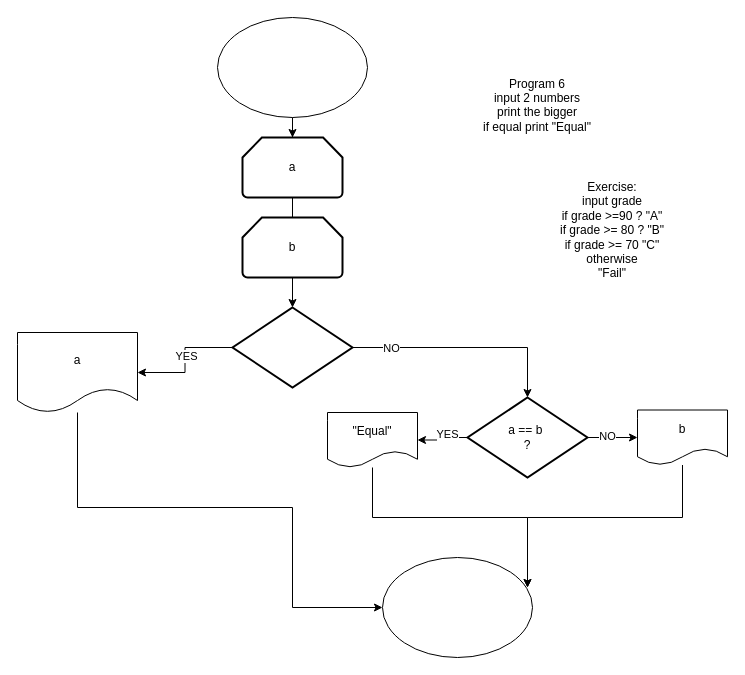
This 745x675 diagram has some shape labels left out. The shapes that lost their labels are listed below. From the top down, each one's box as (x1, y1, x2, y2) in pixels, then its label:
(216, 16, 368, 118): START
(231, 306, 353, 388): a > b ?
(382, 556, 532, 658): STOP
